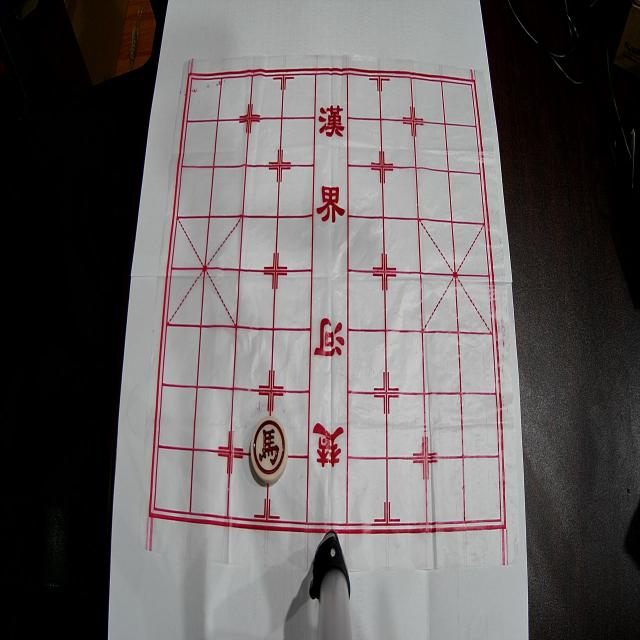red-horse: (250, 416, 288, 483)
